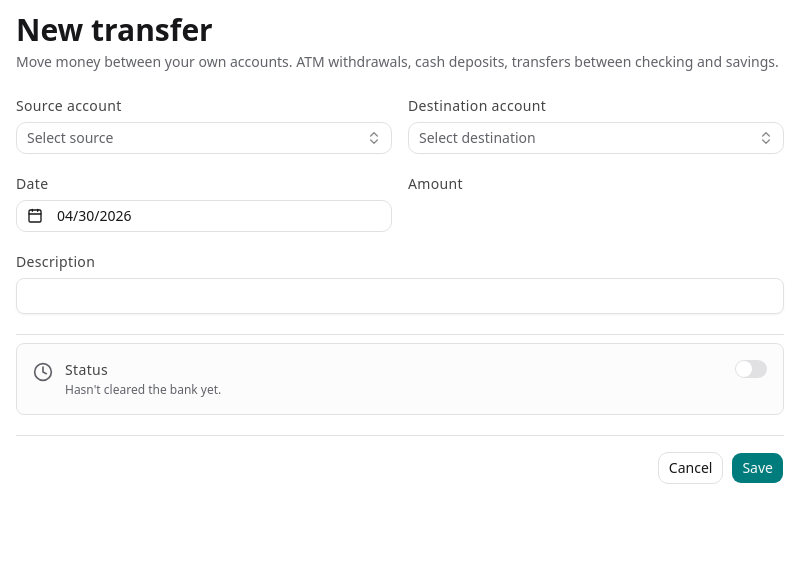
Test case: MovementForm › Test 6: 422 _form banner — rendered above the form
This screenshot has width=801, height=571.
Click the button "Save": point(758, 468) [731,452,784,484]
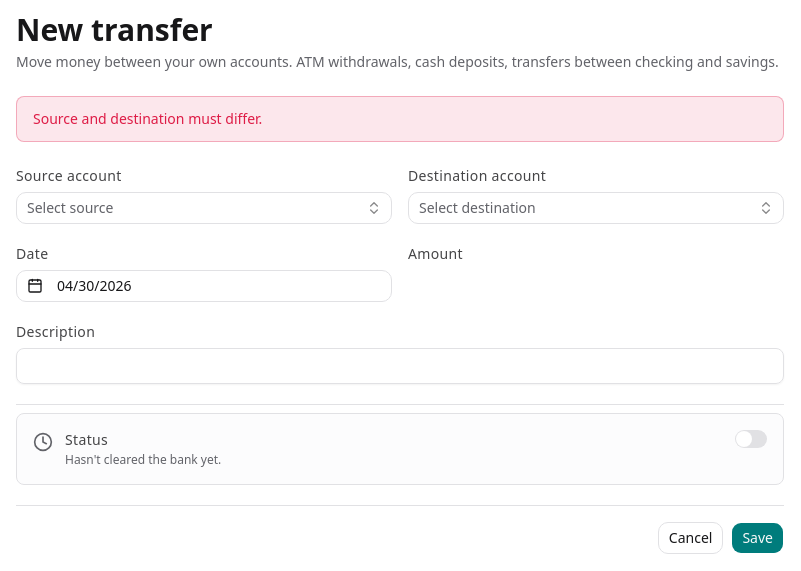
Expected: the text "Source and destination must differ." is shown, [16,96,784,142]
